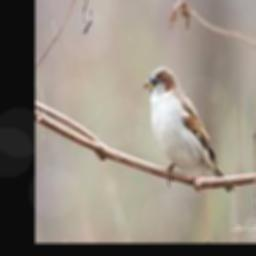Sparrow: (143, 66, 236, 192)
